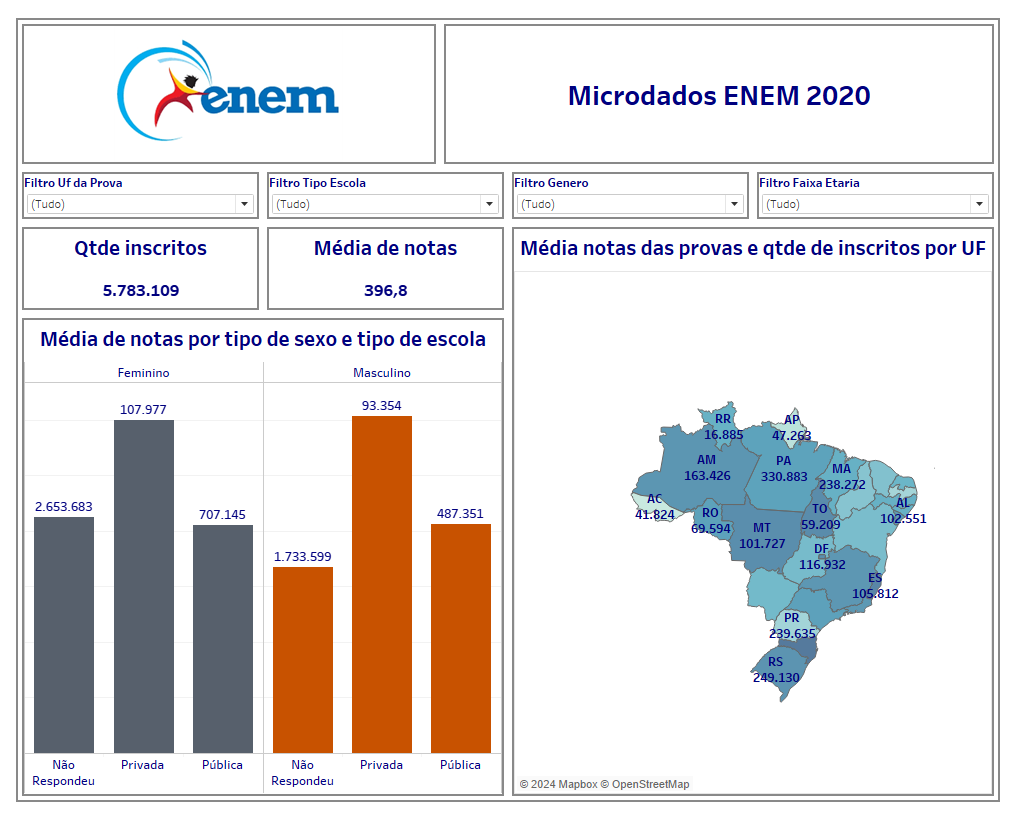

What the dashboard file says about the page in this screenshot:
{"tool":"tableau","page":{"name":"Painel Notas","canvas":[1000,800],"ordinal":1},"visuals":[{"type":"image","param":"C:/Users/s038431376/Documents/GitHub/Teste-Analista-de-Dados-SX/Tableau/microdad","box":[10,10,422,148]},{"type":"text","box":[432,10,558,148]},{"type":"filter","title":"MapaNotas","param":"[federated.03f40a11b8pgvu12wiwvm0h3p6bn].[none:SG_UF_PROVA:nk]","box":[10,158,245,55]},{"type":"filter","title":"MapaNotas","param":"[federated.03f40a11b8pgvu12wiwvm0h3p6bn].[none:Calculation_1276770556918001664:n","box":[255,158,245,55]},{"type":"filter","title":"MapaNotas","param":"[federated.03f40a11b8pgvu12wiwvm0h3p6bn].[none:Tipo Escola (cópia)_1497728413907","box":[500,158,245,55]},{"type":"filter","title":"MapaNotas","param":"[federated.03f40a11b8pgvu12wiwvm0h3p6bn].[none:Tipo Escola (cópia)_7095984793682","box":[745,158,245,55]},{"type":"worksheet","title":"QtdeInscritos","mark":"Automatic","box":[10,213,245,91]},{"type":"worksheet","title":"MediaNotas","mark":"Automatic","box":[255,213,245,91]},{"type":"worksheet","title":"MapaNotas","mark":"Automatic","box":[500,213,490,577]},{"type":"worksheet","title":"Notas_tipoSexo_tipoescola","mark":"Bar","rows":["Calculation_1276770556928196610"],"cols":["Tipo Escola (cópia)_1497728413907410945","Calculation_1276770556918001664"],"box":[10,304,490,486]}]}

Visuals, with their boxes in screenshot pixels (x1, y1, x2, y2), scaled from the page's 1000x800 canvas onto the 1011x829 screenshot:
image: crop(10, 10, 437, 164)
text: crop(437, 10, 1001, 164)
"MapaNotas" filter: crop(10, 164, 258, 221)
"MapaNotas" filter: crop(258, 164, 505, 221)
"MapaNotas" filter: crop(505, 164, 753, 221)
"MapaNotas" filter: crop(753, 164, 1001, 221)
"QtdeInscritos" worksheet: crop(10, 221, 258, 315)
"MediaNotas" worksheet: crop(258, 221, 505, 315)
"MapaNotas" worksheet: crop(505, 221, 1001, 819)
"Notas_tipoSexo_tipoescola" worksheet (Bar marks): crop(10, 315, 505, 819)
